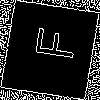F: (24, 24, 78, 62)
